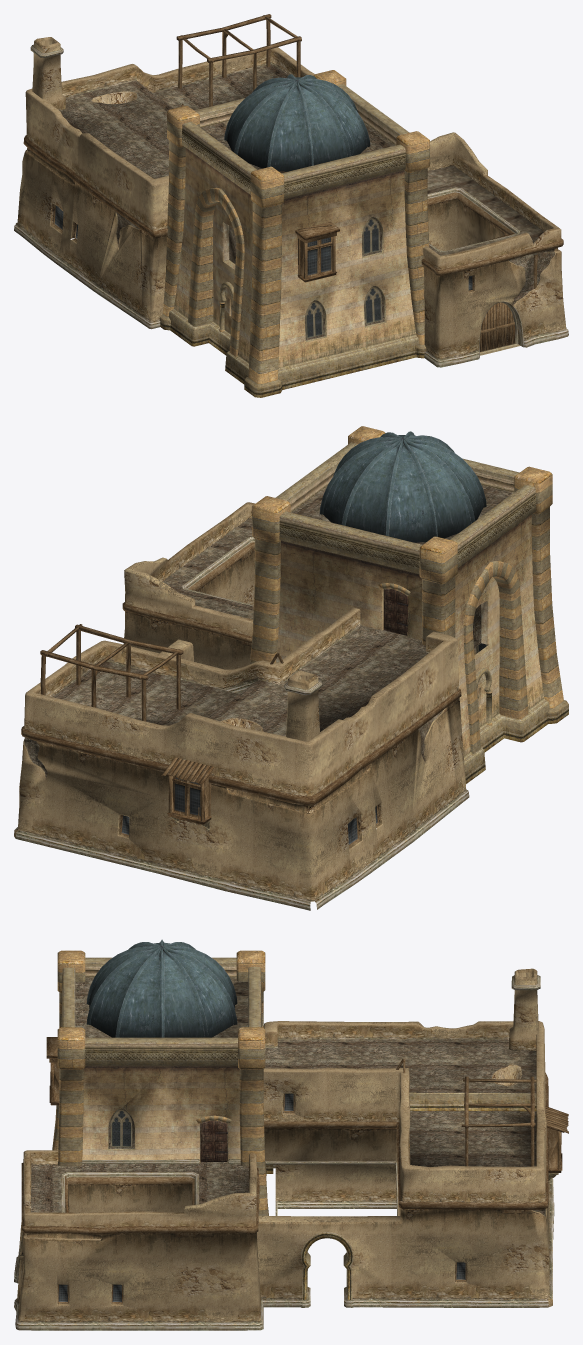
File: oriental_houses_01_LOD3.obj
3 views of the same model, one above another, from view 1: azimuth 30°, elevation 25°; view 2: azimuth 150°, elevation 25°; view 3: azimuth 270°, elevation 25° (orthographic). The views are drawn at different scales.
Parts seen in each view (by area): view 1: oriental_houses_01_LOD3.obj; view 2: oriental_houses_01_LOD3.obj; view 3: oriental_houses_01_LOD3.obj.
Part boxes in pixels (x1,y1,x2,y2): oriental_houses_01_LOD3.obj: (14,14,568,397); oriental_houses_01_LOD3.obj: (14,426,568,910); oriental_houses_01_LOD3.obj: (14,939,568,1330).
Bounding box in the file's own units: 641 × 508 × 917.
9 materials, 9 textured.
